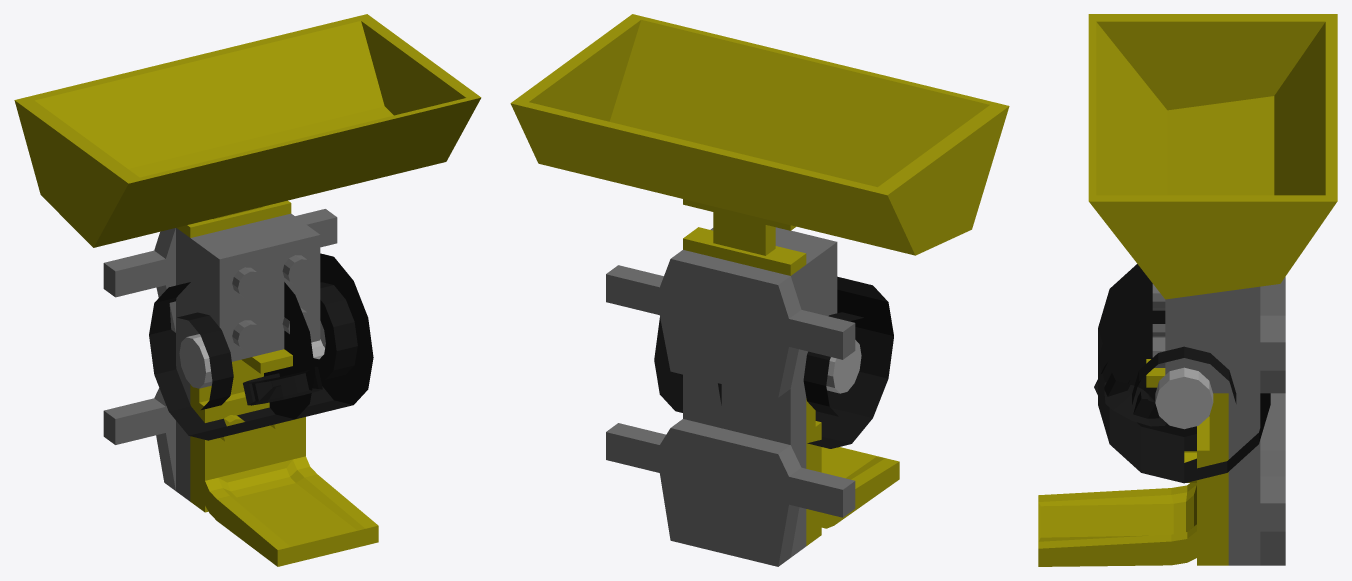
File: mini-dozer.obj
The picture shows the model from 3 angles, left to right: view 1: azimuth 30°, elevation 25°; view 2: azimuth 150°, elevation 25°; view 3: azimuth 270°, elevation 25°; orthographic projection. The views are drawn at different scales.
Parts seen in each view (by area): view 1: Truck_Center, Wheel.001_Left, Wheel.000_Right; view 2: Truck_Center, Wheel.001_Left, Wheel.000_Right; view 3: Truck_Center, Wheel.000_Right, Wheel.001_Left.
Boxes of the visible parts, left/top/right/bottom form: Truck_Center: left=14, top=14, right=481, bottom=566; Wheel.001_Left: left=149, top=282, right=315, bottom=440; Wheel.000_Right: left=241, top=253, right=373, bottom=422; Truck_Center: left=510, top=14, right=1009, bottom=566; Wheel.001_Left: left=718, top=276, right=893, bottom=448; Wheel.000_Right: left=654, top=317, right=682, bottom=412; Truck_Center: left=1038, top=14, right=1337, bottom=566; Wheel.000_Right: left=1098, top=288, right=1270, bottom=483; Wheel.001_Left: left=1098, top=264, right=1196, bottom=452.
Size of the model in its own units: 7 by 7.53 by 4.72.
